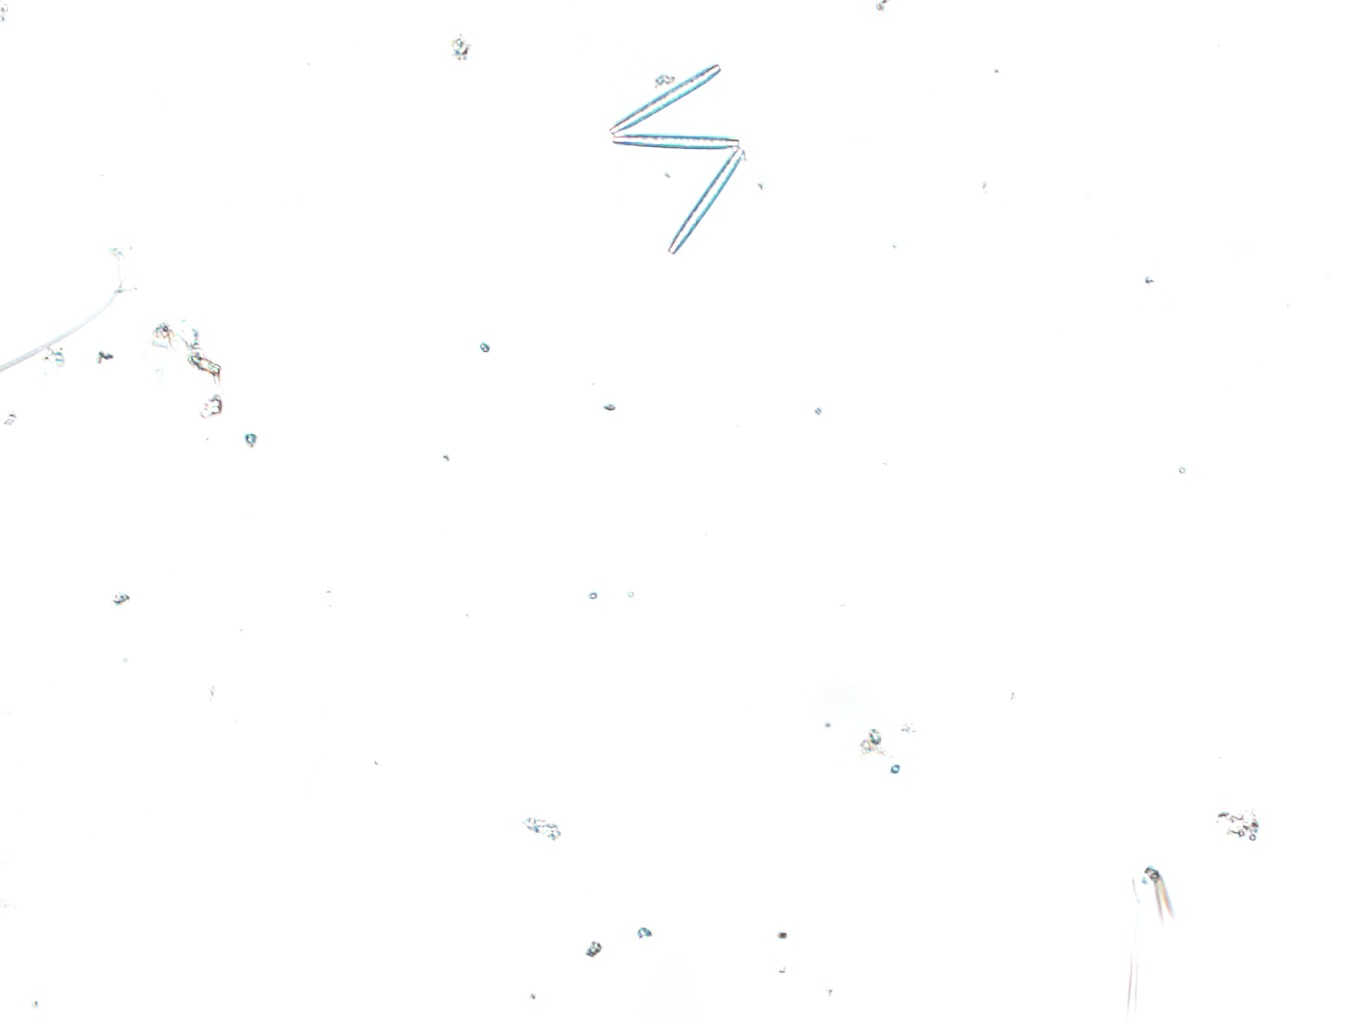thalassionema nitzschioides: (603, 56, 749, 264)
